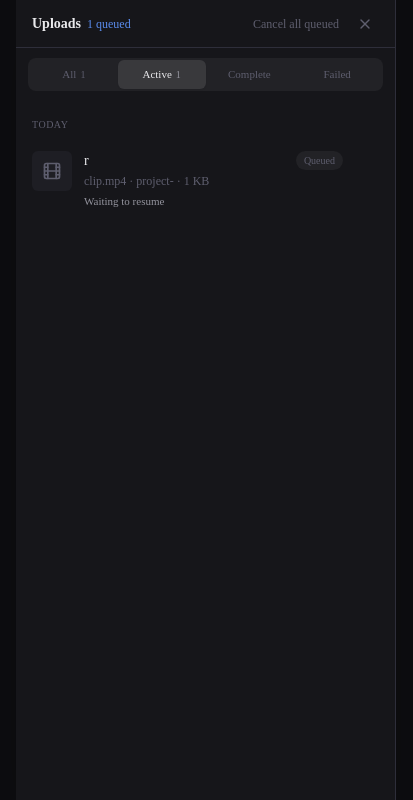
a resume waiting for its turn › is on the Active tab and not the Failed one, and counted as active
Expected: the button "Active1" is shown, [118,60,206,88]
Click the button "Failed" at (337, 74), box [293,60,381,88]
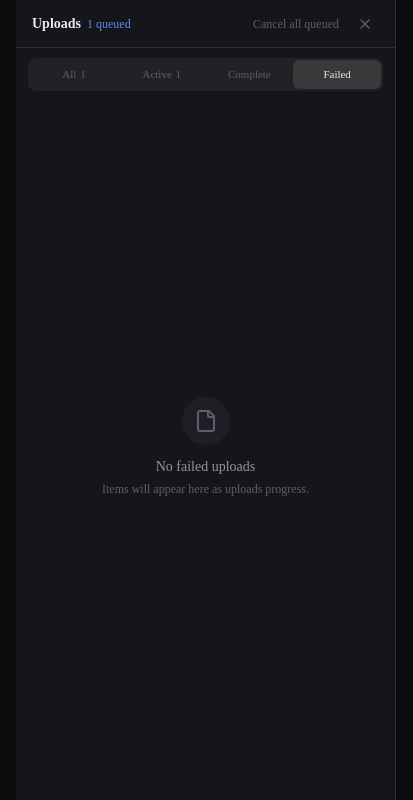
Expected: no elements with test id "upload-row" are shown
